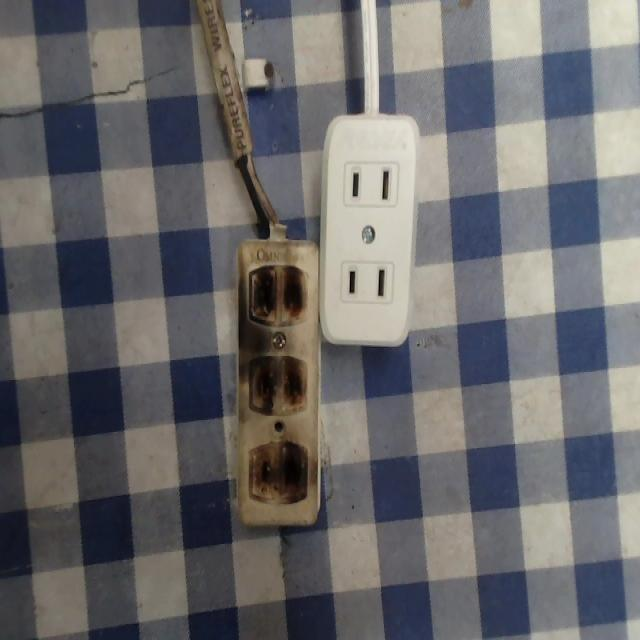-: (243, 431, 315, 516), (240, 258, 316, 338), (242, 348, 318, 424)
